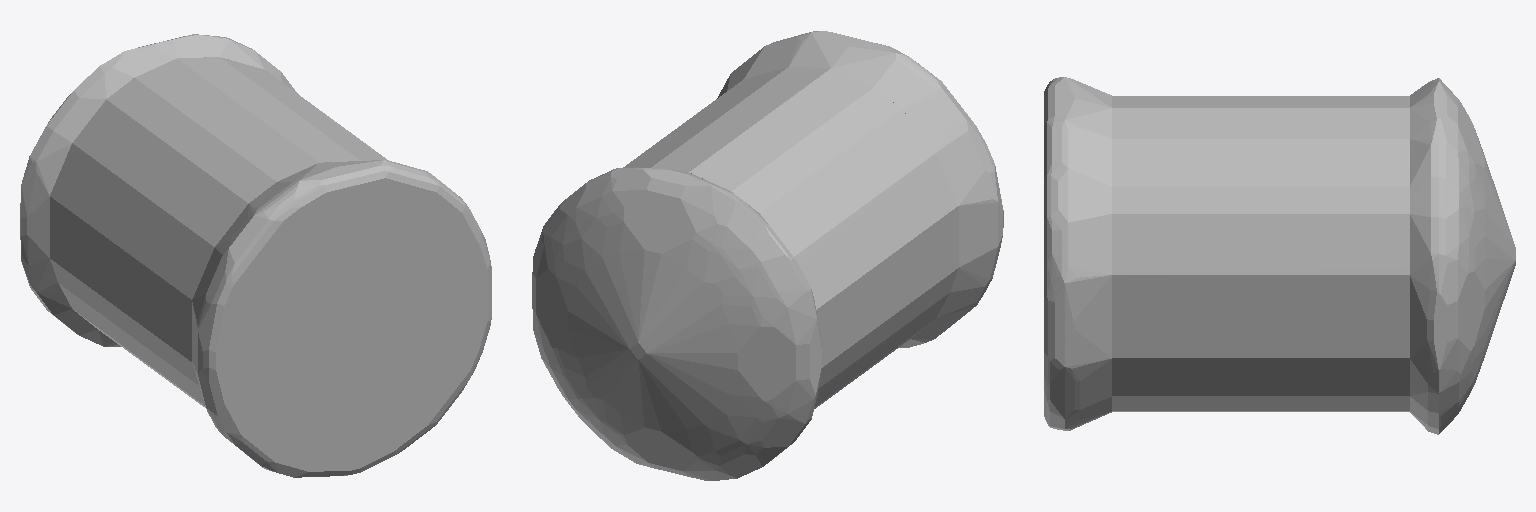
The robot description file, URDF, robot "root":
<robot name="root">
  <link name="link_coacd_convex_piece_0">
    <inertial>
      <origin xyz="0 0 0" rpy="0 0 0"/>
      <inertia ixx="1.11E-02" ixy="1.49E-04" ixz="-7.09E-06" iyy="3.44E-03" iyz="9.55E-05" izz="1.11E-02"/>
    </inertial>
    <visual>
      <origin xyz="0 0 0" rpy="0 0 0"/>
      <geometry>
        <mesh filename="coacd_convex_piece_0.obj" scale="1.0000E+00 1.0000E+00 1.0000E+00"/>
      </geometry>
      <material name="">
        <color rgba="7.50E-01 7.50E-01 7.50E-01 1"/>
      </material>
    </visual>
    <collision>
      <origin xyz="0 0 0" rpy="0 0 0"/>
      <geometry>
        <mesh filename="coacd_convex_piece_0.obj" scale="1.0000E+00 1.0000E+00 1.0000E+00"/>
      </geometry>
    </collision>
  </link>
  <link name="link_coacd_convex_piece_1">
    <inertial>
      <origin xyz="0 0 0" rpy="0 0 0"/>
      <inertia ixx="7.69E-03" ixy="7.58E-05" ixz="-7.57E-06" iyy="2.97E-03" iyz="-3.97E-05" izz="7.67E-03"/>
    </inertial>
    <visual>
      <origin xyz="0 0 0" rpy="0 0 0"/>
      <geometry>
        <mesh filename="coacd_convex_piece_1.obj" scale="1.0000E+00 1.0000E+00 1.0000E+00"/>
      </geometry>
      <material name="">
        <color rgba="7.50E-01 7.50E-01 7.50E-01 1"/>
      </material>
    </visual>
    <collision>
      <origin xyz="0 0 0" rpy="0 0 0"/>
      <geometry>
        <mesh filename="coacd_convex_piece_1.obj" scale="1.0000E+00 1.0000E+00 1.0000E+00"/>
      </geometry>
    </collision>
  </link>
  <joint name="link_coacd_convex_piece_1_joint" type="fixed">
    <origin xyz="0 0 0" rpy="0 0 0"/>
    <parent link="link_coacd_convex_piece_0"/>
    <child link="link_coacd_convex_piece_1"/>
  </joint>
  <link name="link_coacd_convex_piece_2">
    <inertial>
      <origin xyz="0 0 0" rpy="0 0 0"/>
      <inertia ixx="1.07E-02" ixy="3.22E-04" ixz="-9.13E-05" iyy="1.13E-02" iyz="-5.94E-05" izz="1.05E-02"/>
    </inertial>
    <visual>
      <origin xyz="0 0 0" rpy="0 0 0"/>
      <geometry>
        <mesh filename="coacd_convex_piece_2.obj" scale="1.0000E+00 1.0000E+00 1.0000E+00"/>
      </geometry>
      <material name="">
        <color rgba="7.50E-01 7.50E-01 7.50E-01 1"/>
      </material>
    </visual>
    <collision>
      <origin xyz="0 0 0" rpy="0 0 0"/>
      <geometry>
        <mesh filename="coacd_convex_piece_2.obj" scale="1.0000E+00 1.0000E+00 1.0000E+00"/>
      </geometry>
    </collision>
  </link>
  <joint name="link_coacd_convex_piece_2_joint" type="fixed">
    <origin xyz="0 0 0" rpy="0 0 0"/>
    <parent link="link_coacd_convex_piece_1"/>
    <child link="link_coacd_convex_piece_2"/>
  </joint>
</robot>

--- Render facts (derived) ---
The picture shows the robot from 3 angles, left to right: view 1: azimuth 30°, elevation 25°; view 2: azimuth 150°, elevation 25°; view 3: azimuth 270°, elevation 25°; orthographic projection.
Model root with 3 links and 2 joints (2 fixed), rooted at link_coacd_convex_piece_0, posed every joint at zero.
Links seen in each view (by area): view 1: link_coacd_convex_piece_0, link_coacd_convex_piece_2, link_coacd_convex_piece_1; view 2: link_coacd_convex_piece_1, link_coacd_convex_piece_2, link_coacd_convex_piece_0; view 3: link_coacd_convex_piece_2, link_coacd_convex_piece_1, link_coacd_convex_piece_0.
Link boxes in pixels (box(x1,y1,x2,y2)): link_coacd_convex_piece_0: box(192, 160, 491, 477); link_coacd_convex_piece_2: box(50, 57, 388, 407); link_coacd_convex_piece_1: box(20, 34, 297, 346); link_coacd_convex_piece_1: box(532, 168, 821, 480); link_coacd_convex_piece_2: box(623, 67, 958, 408); link_coacd_convex_piece_0: box(717, 31, 1003, 347); link_coacd_convex_piece_2: box(1112, 96, 1409, 411); link_coacd_convex_piece_1: box(1410, 78, 1515, 434); link_coacd_convex_piece_0: box(1044, 77, 1111, 430).
Size in the robot's own frame: 1.17 by 1.59 by 1.17 metres.
3 mesh visuals loaded from 3 distinct referenced files (3 OBJ).
